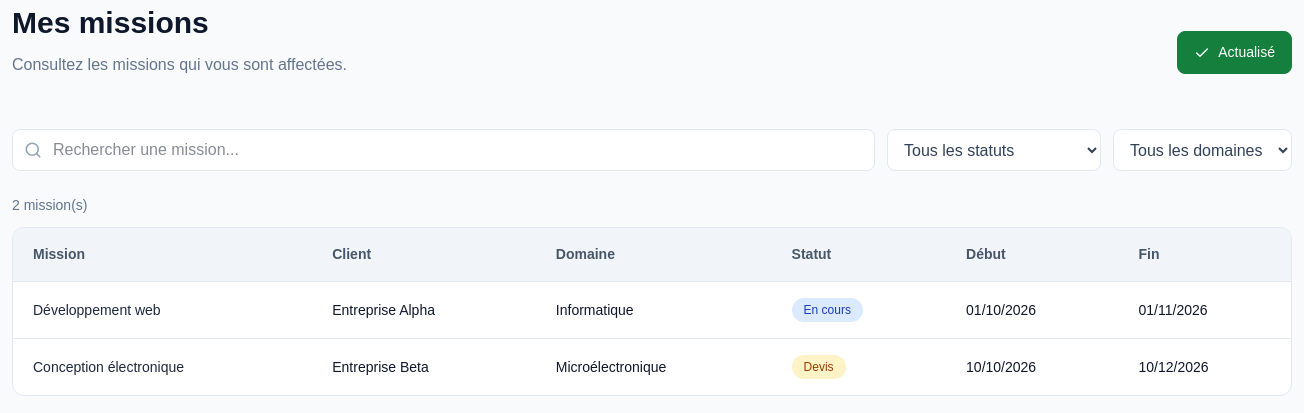
Scenario: MyMissionsPage › filtre les missions par recherche
Expected: the text "Développement web" is shown, x1=13 y1=282 x2=312 y2=338
Type "Alpha" into the field labelled "Rechercher une mission" at coordinates (444, 150), box x1=12 y1=129 x2=875 y2=171
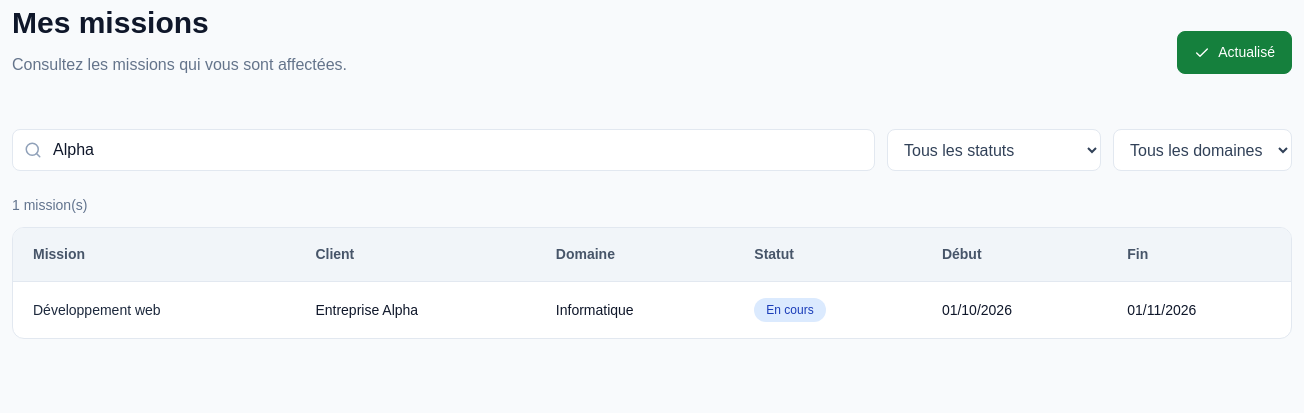
Expected: the text "Développement web" is shown, x1=13 y1=282 x2=295 y2=338
Now the text "Conception électronique" is gone
